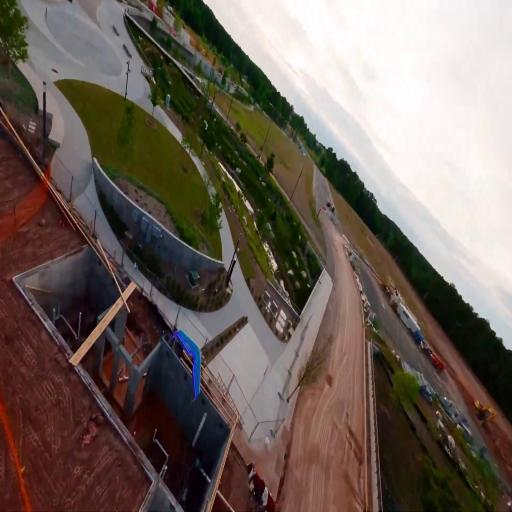uav: (173, 326, 205, 404)
